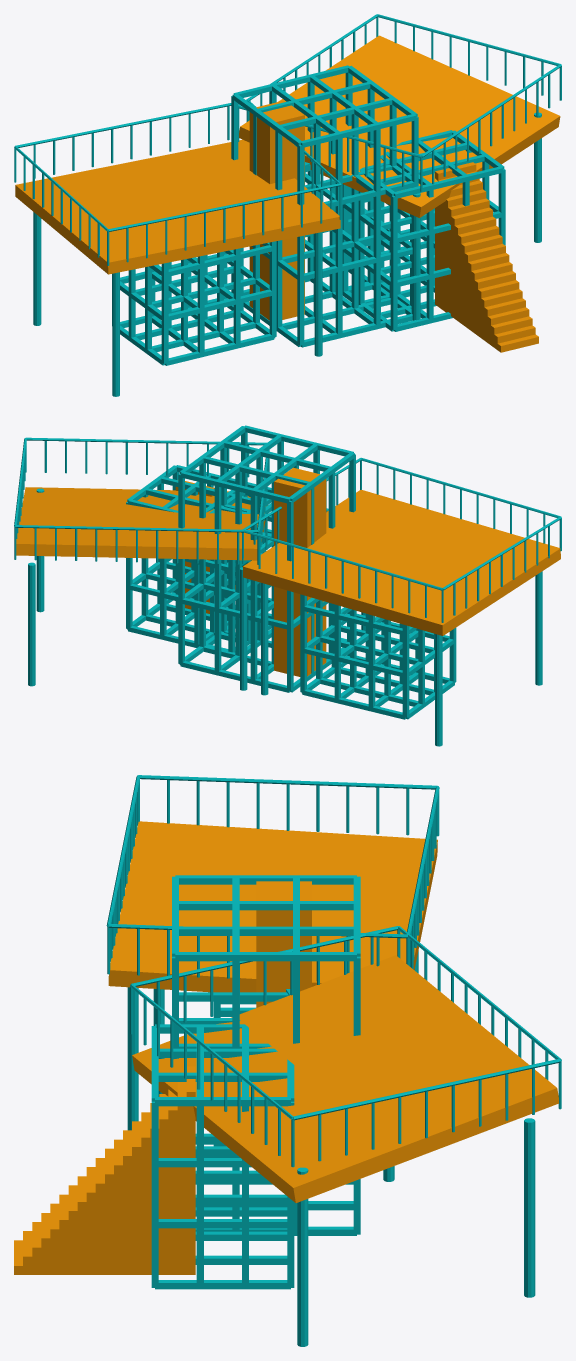
Rendered from folie_tag_099.glb.
The picture shows the model from 3 angles, top to bottom: view 1: azimuth 30°, elevation 25°; view 2: azimuth 150°, elevation 25°; view 3: azimuth 270°, elevation 25°; orthographic projection. The views are drawn at different scales.
Visible parts, largest first — view 1: folie_tag_099_02_plate, folie_tag_099_01_cage, folie_tag_099_00_plate, folie_tag_099_line, folie_tag_099_04_cage, folie_tag_099_stairs, folie_tag_099_03_cage, folie_tag_099_core; view 2: folie_tag_099_02_plate, folie_tag_099_01_cage, folie_tag_099_line, folie_tag_099_00_plate, folie_tag_099_04_cage, folie_tag_099_03_cage, folie_tag_099_core; view 3: folie_tag_099_00_plate, folie_tag_099_02_plate, folie_tag_099_line, folie_tag_099_stairs, folie_tag_099_03_cage, folie_tag_099_01_cage, folie_tag_099_core.
Boxes of the visible parts, x1,y1,x2,y2 form: folie_tag_099_02_plate: [15, 139, 340, 274]; folie_tag_099_01_cage: [231, 65, 418, 347]; folie_tag_099_00_plate: [239, 35, 560, 217]; folie_tag_099_line: [14, 14, 561, 396]; folie_tag_099_04_cage: [112, 241, 276, 365]; folie_tag_099_stairs: [435, 162, 538, 352]; folie_tag_099_03_cage: [342, 130, 505, 331]; folie_tag_099_core: [249, 100, 304, 320]; folie_tag_099_02_plate: [243, 490, 560, 635]; folie_tag_099_01_cage: [178, 425, 355, 692]; folie_tag_099_line: [14, 437, 561, 746]; folie_tag_099_00_plate: [16, 487, 267, 560]; folie_tag_099_04_cage: [300, 594, 456, 719]; folie_tag_099_03_cage: [126, 465, 271, 652]; folie_tag_099_core: [274, 467, 326, 676]; folie_tag_099_00_plate: [132, 955, 558, 1202]; folie_tag_099_02_plate: [108, 821, 437, 992]; folie_tag_099_line: [106, 775, 561, 1346]; folie_tag_099_stairs: [14, 1066, 195, 1274]; folie_tag_099_03_cage: [151, 1024, 294, 1289]; folie_tag_099_01_cage: [172, 875, 360, 1235]; folie_tag_099_core: [256, 881, 311, 1007].
Size of the model in its own units: 16.09 by 6.14 by 10.86.
